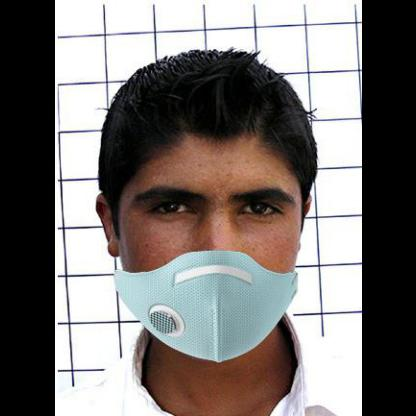FFP Mask: (118, 148, 296, 356)
